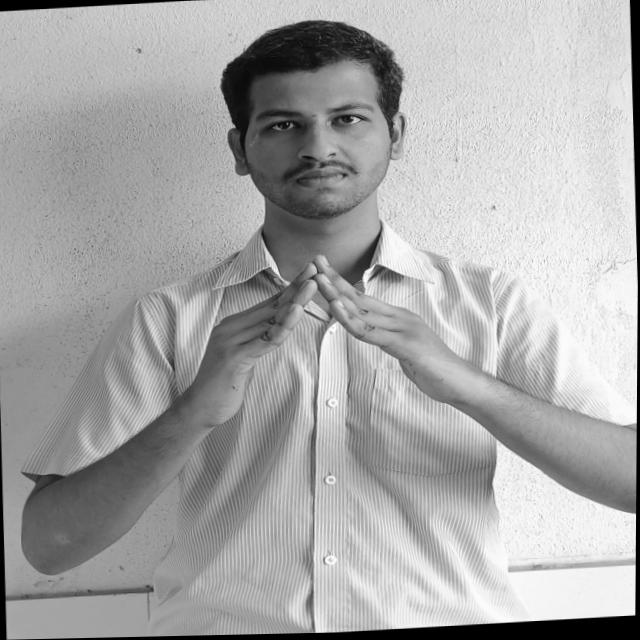Home: (179, 250, 460, 420)
